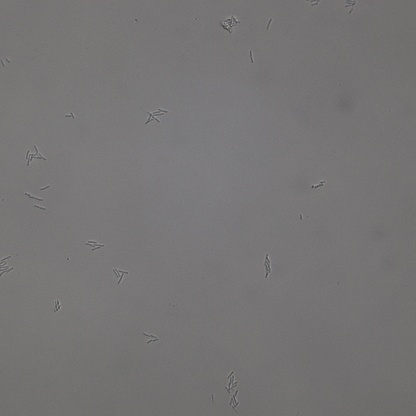R(colony): (25, 144, 46, 165), (144, 108, 168, 123), (229, 391, 242, 415), (225, 370, 238, 393), (264, 253, 273, 277)
